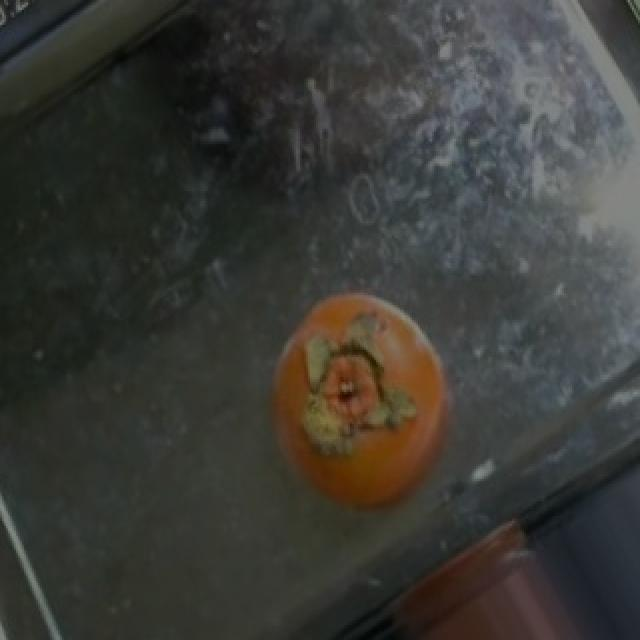Fruit: (240, 265, 478, 546)
